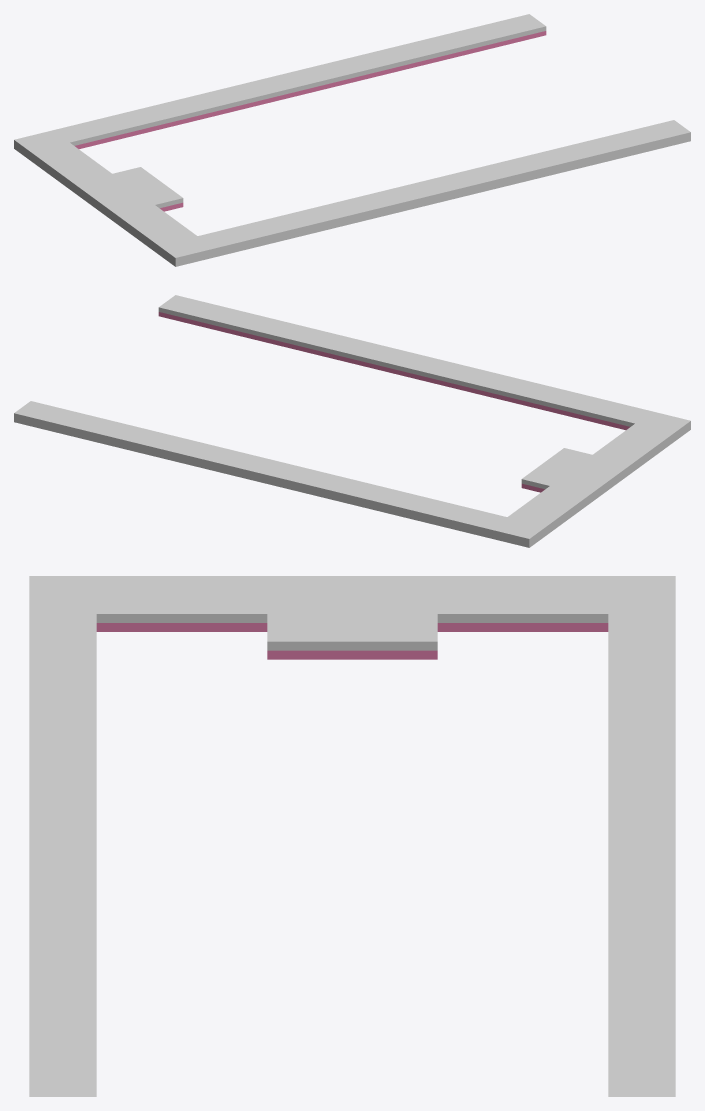
Rendered from stage2.fbx.
3 views of the same model, one above another, from view 1: azimuth 30°, elevation 25°; view 2: azimuth 150°, elevation 25°; view 3: azimuth 270°, elevation 25° (orthographic). The views are drawn at different scales.
Visible parts, largest first — view 1: Cube.008; view 2: Cube.008; view 3: Cube.008.
Part boxes in pixels (<box>): Cube.008: <box>14,14,690,266</box>; Cube.008: <box>14,295,690,547</box>; Cube.008: <box>29,576,675,1096</box>.
Bounding box in the file's own units: 10527 × 175 × 5714.
